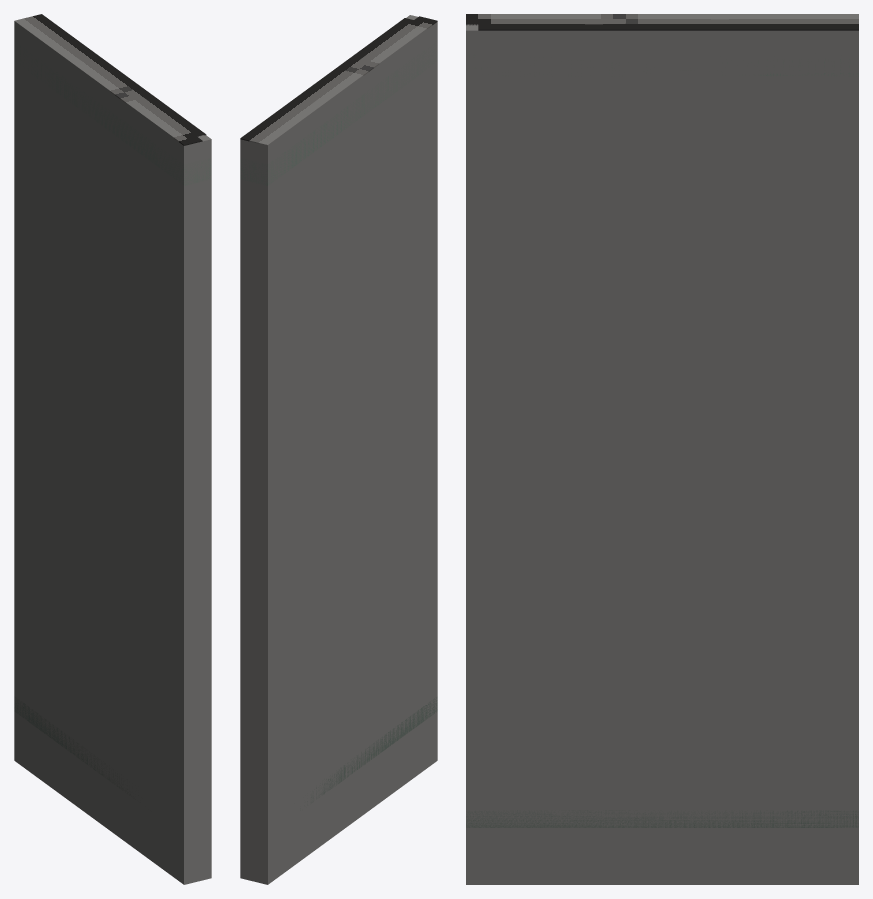
File: CMU3DInteriorVehiclePizzaVanFront1.glb
3 renders of one model, left to right at view 1: azimuth 30°, elevation 25°; view 2: azimuth 150°, elevation 25°; view 3: azimuth 270°, elevation 25°, orthographic. The views are drawn at different scales.
Visible parts, largest first — view 1: cabin bulkhead, cabin bulkhead source finish, upper armor trim, lower armor trim; view 2: cabin bulkhead, cabin bulkhead source finish, upper armor trim, lower armor trim; view 3: cabin bulkhead, cabin bulkhead source finish, lower armor trim.
Boxes of the visible parts, bbox=[...] form: cabin bulkhead: bbox=[14, 22, 211, 884]; cabin bulkhead source finish: bbox=[14, 14, 206, 145]; upper armor trim: bbox=[14, 41, 211, 185]; lower armor trim: bbox=[14, 696, 140, 802]; cabin bulkhead: bbox=[240, 15, 437, 884]; cabin bulkhead source finish: bbox=[240, 16, 437, 145]; upper armor trim: bbox=[240, 41, 437, 185]; lower armor trim: bbox=[300, 696, 437, 810]; cabin bulkhead: bbox=[466, 24, 858, 884]; cabin bulkhead source finish: bbox=[466, 14, 858, 30]; lower armor trim: bbox=[466, 810, 858, 827].
Bounding box in the file's own units: 0.0938 × 2.4 × 1.
Materials: 4 (1 with a texture image).
